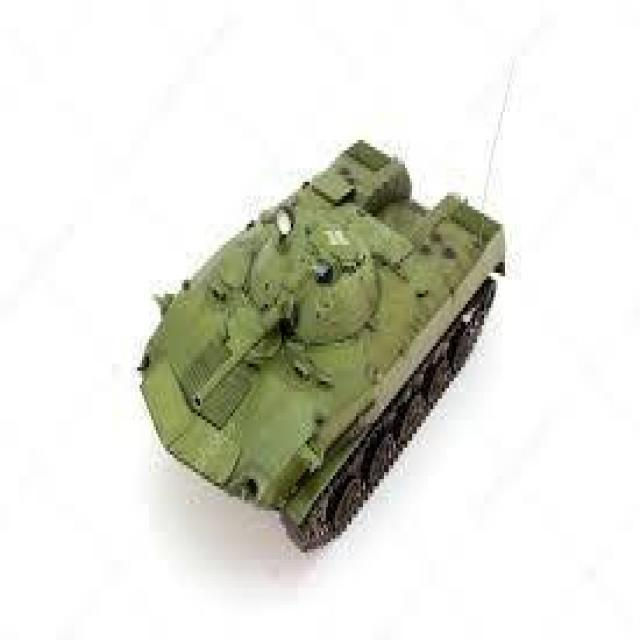MIL_MBT: (125, 133, 532, 518)
